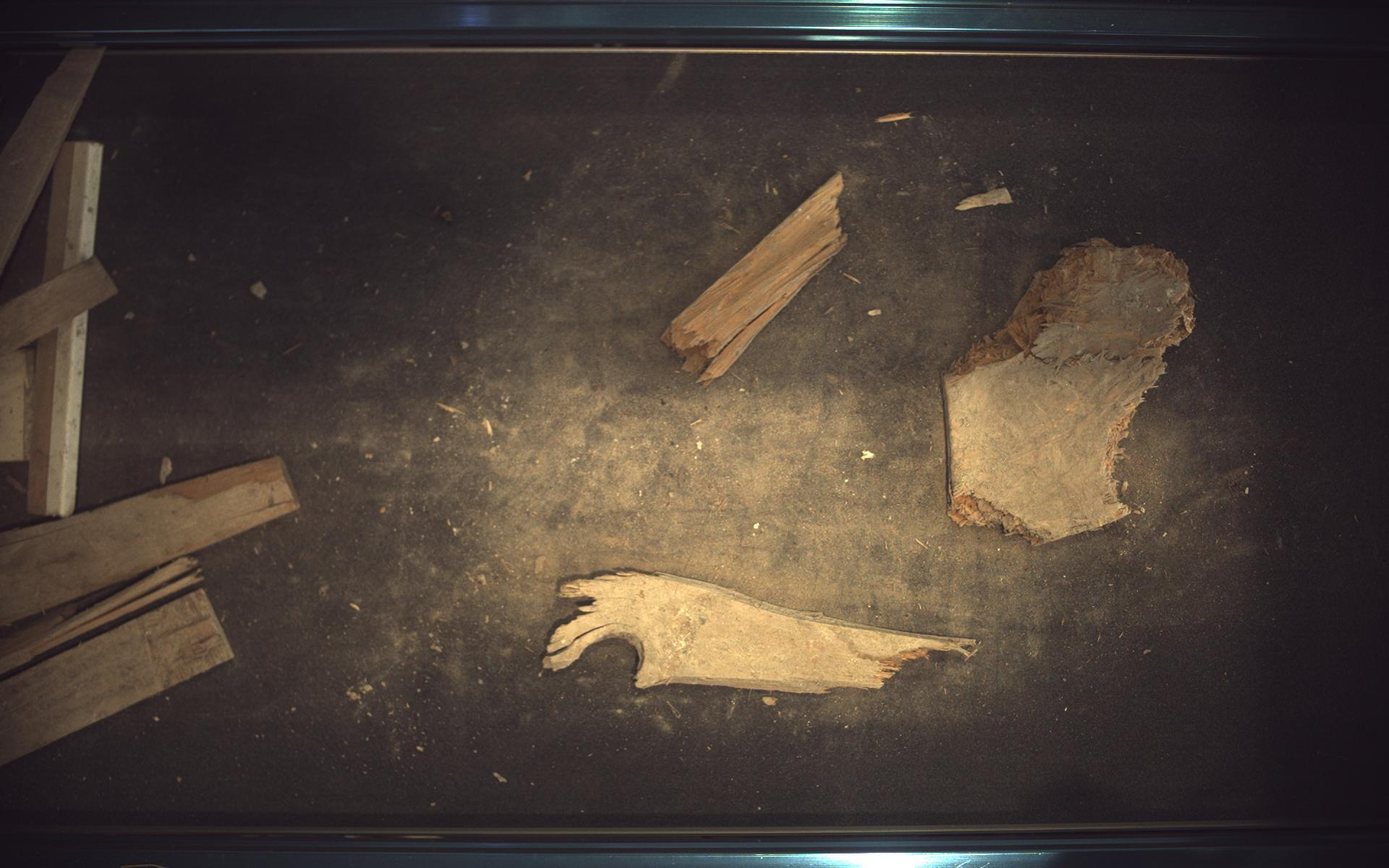wood: (946, 238, 1197, 543), (543, 571, 979, 694), (664, 171, 848, 384)
